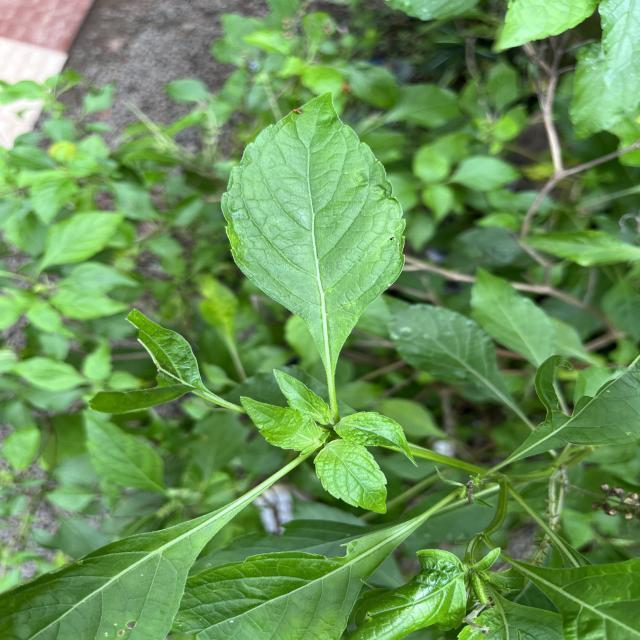Ocimum gratissimum: (218, 89, 410, 376), (0, 505, 246, 640), (169, 515, 433, 640)
